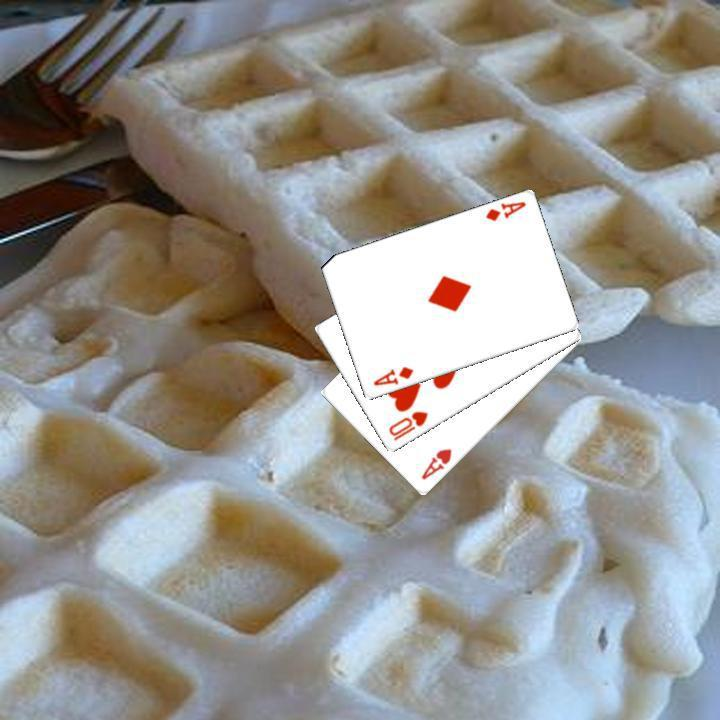10: (384, 407, 430, 443)
A: (417, 444, 454, 482), (481, 197, 528, 224), (369, 363, 415, 388)
